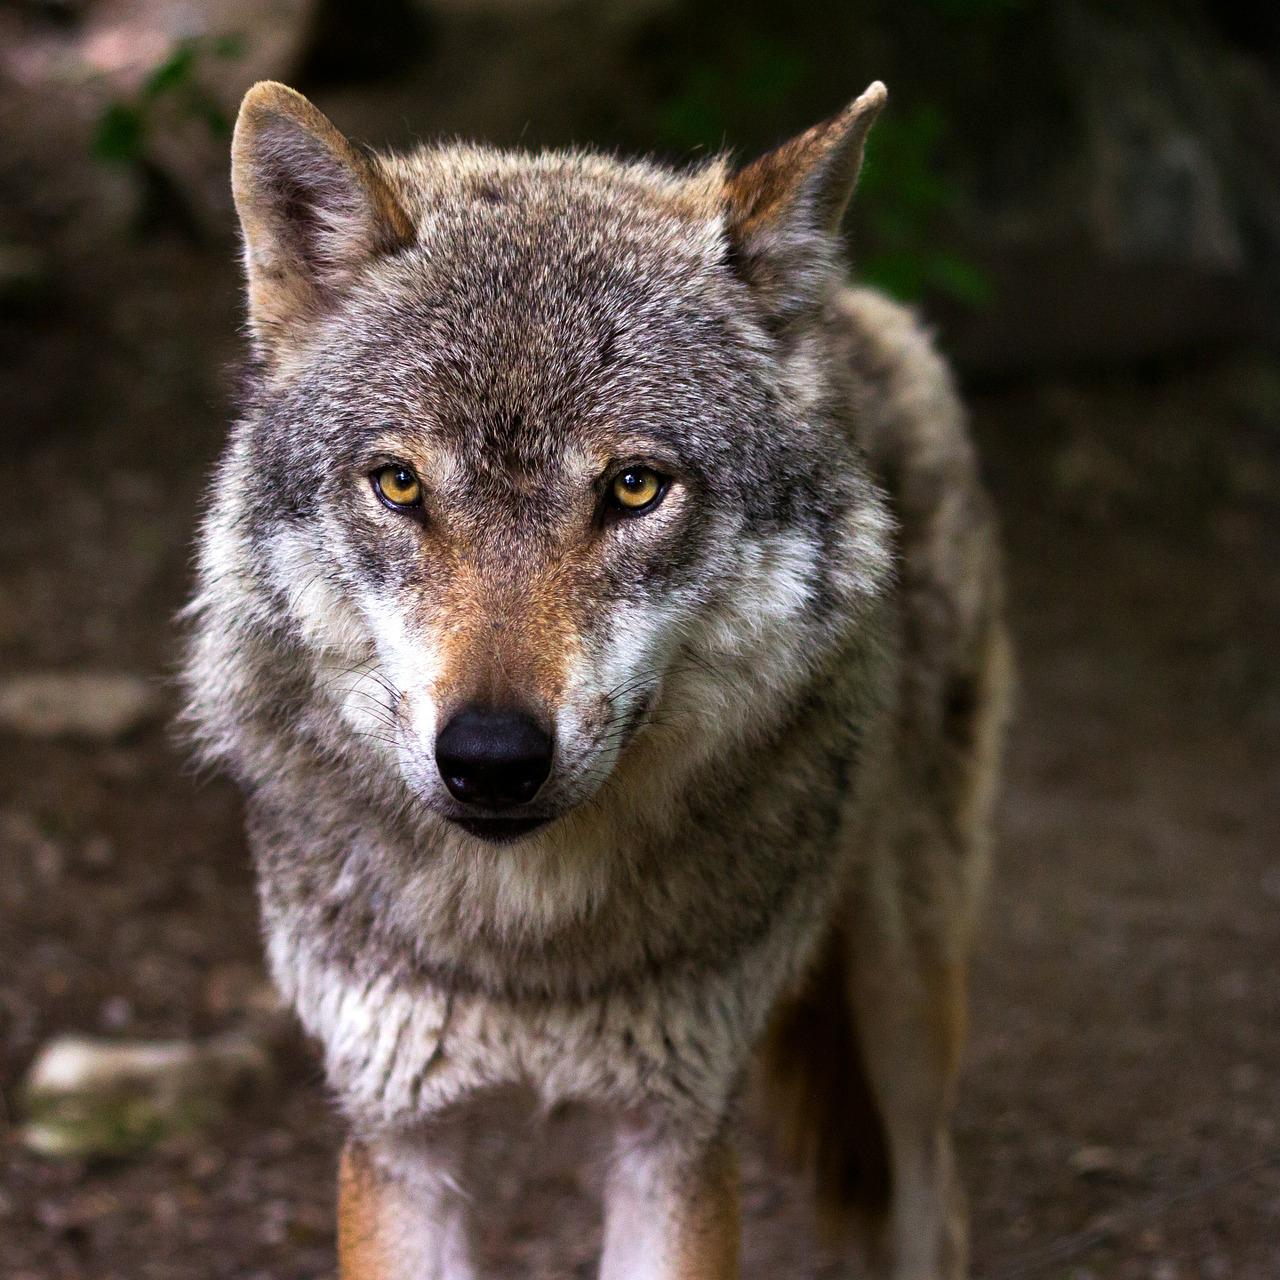Lobo: (97, 47, 1044, 1264)
